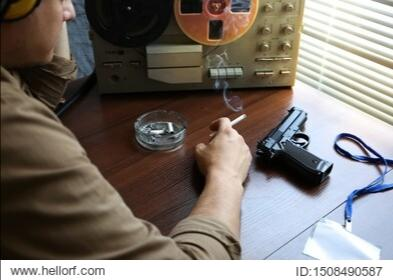Cigarette: (210, 114, 246, 138)
